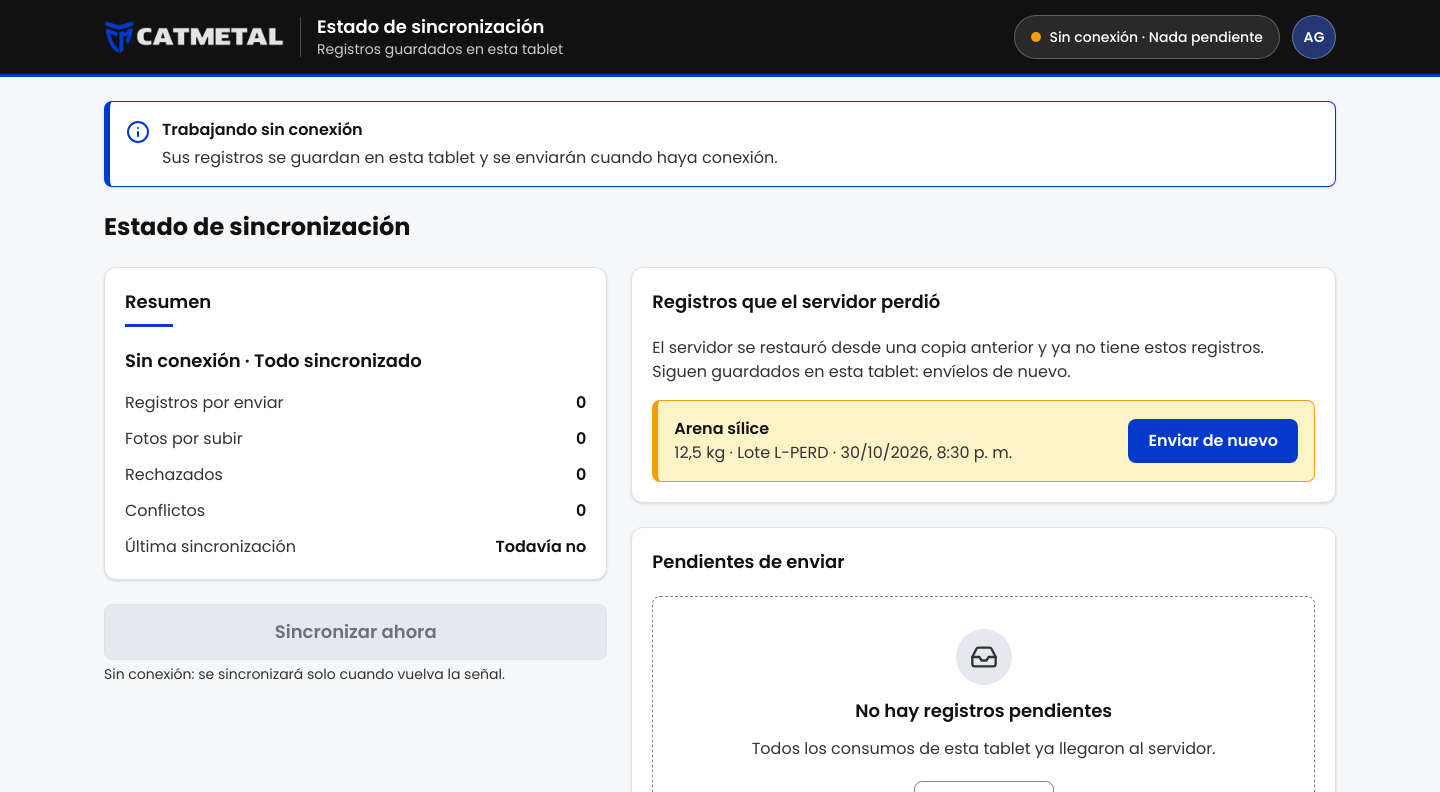
Registros que el servidor perdió y envíos atascados › lista los consumos perdidos y "Enviar de nuevo" los vuelve a encolar
Expected: the element "Registros que el servidor perdió" shows "Arena sílice", [674,417,769,440]
Expected: the element "Registros que el servidor perdió" shows "Lote L-PERD", [631,267,1336,503]
Click the button with aria-label "Enviar de nuevo: Arena sílice, lote L-PERD" at point(1213, 441), box [1128,419,1298,463]
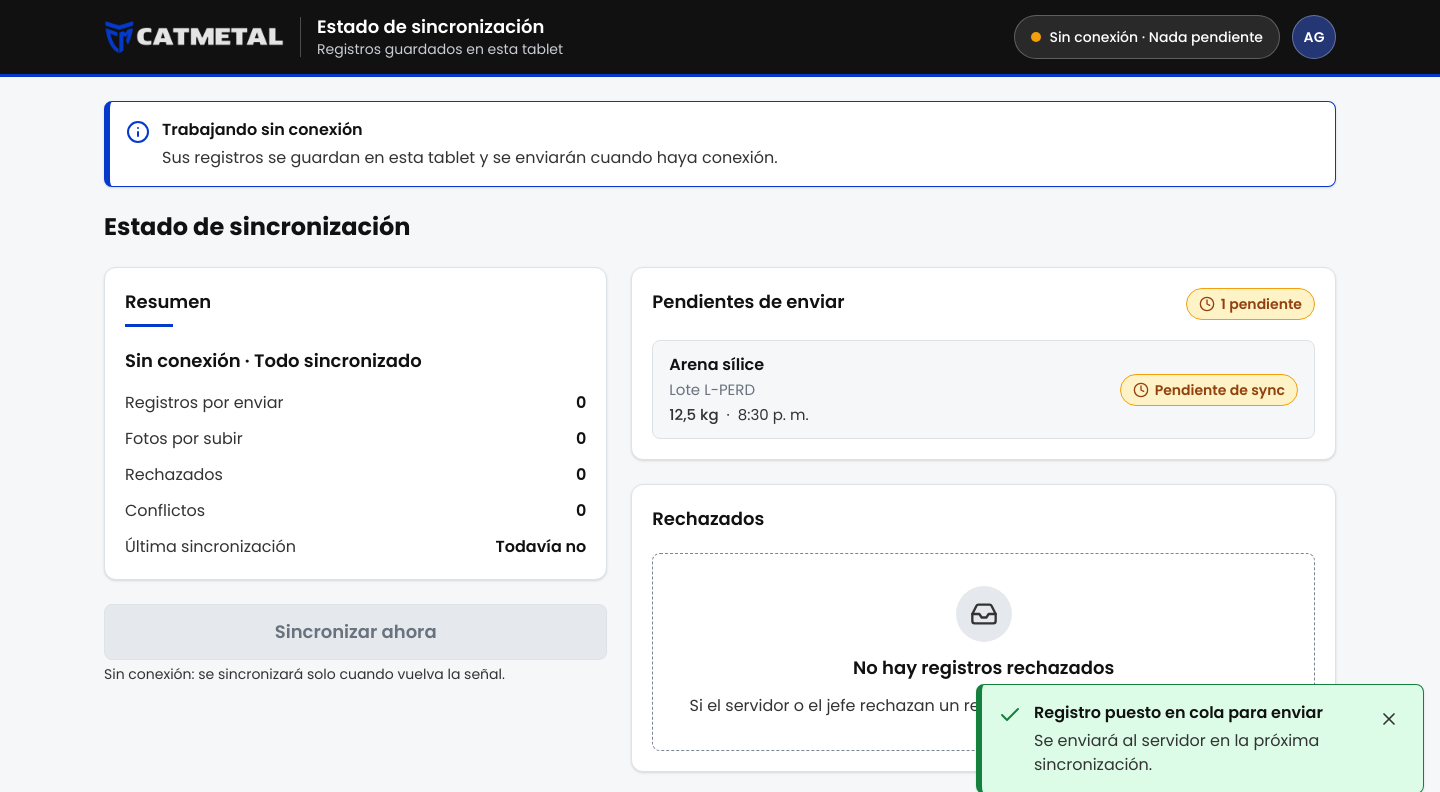
Result: the text "Registro puesto en cola para enviar" is shown at [1034,701,1355,725]
Result: the heading "Registros que el servidor perdió" is gone
